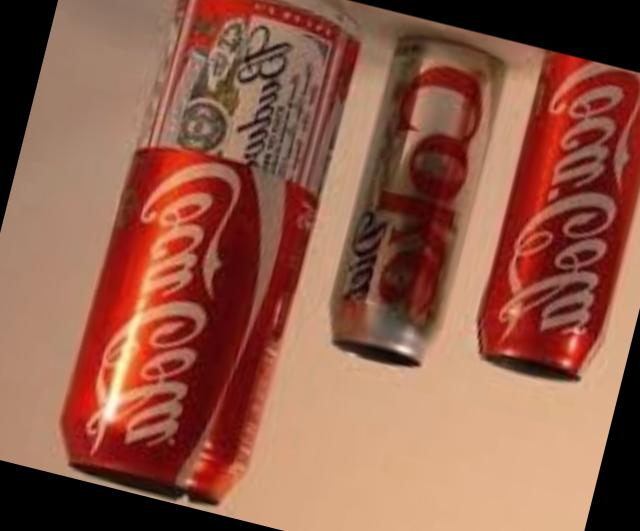metal: (56, 0, 350, 505), (325, 40, 498, 367), (472, 50, 640, 382)
